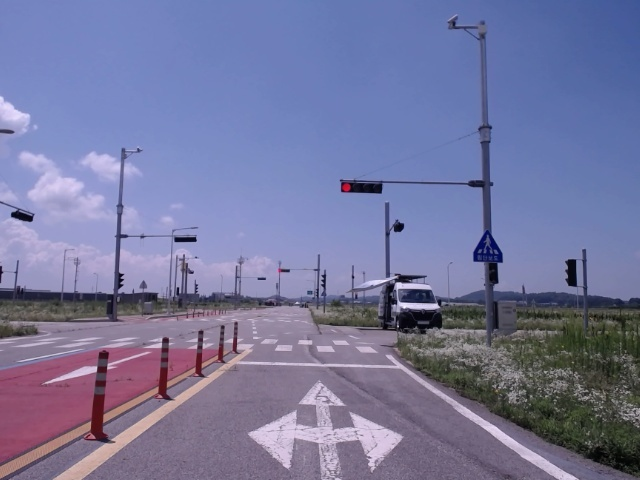red_4: (340, 181, 382, 194)
